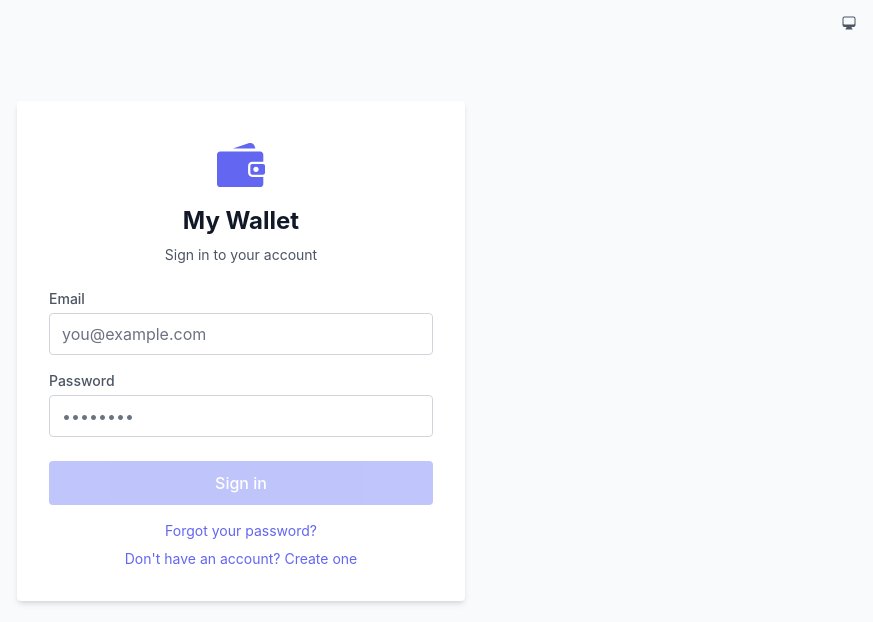
Login › disables button and shows a spinner while submitting
The width and height of the screenshot is (873, 622).
Type "test@example.com" into the field labelled "Email" at x=241, y=334, box [49, 313, 433, 355]
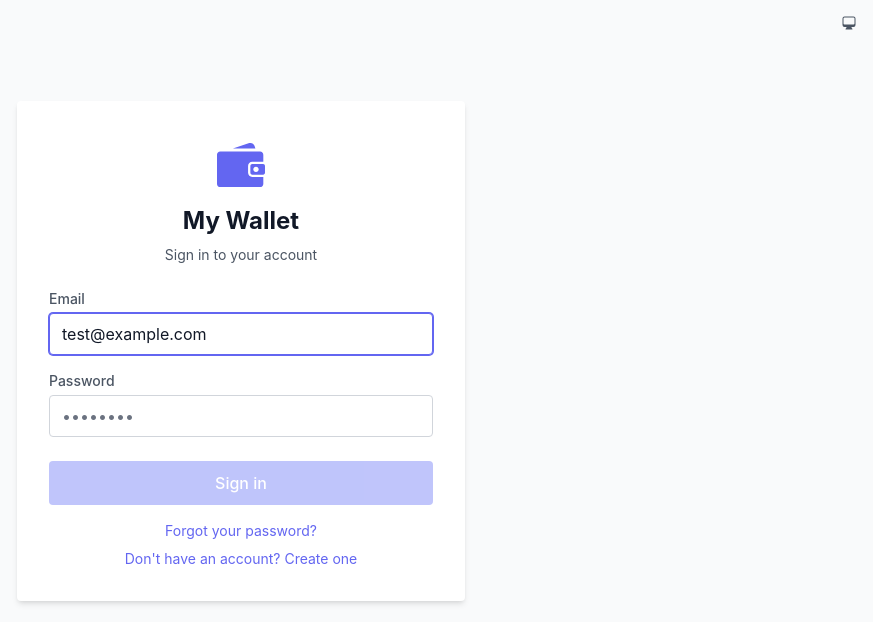
Type "password" into the password field labelled "Password" at x=241, y=416, box [49, 395, 433, 437]
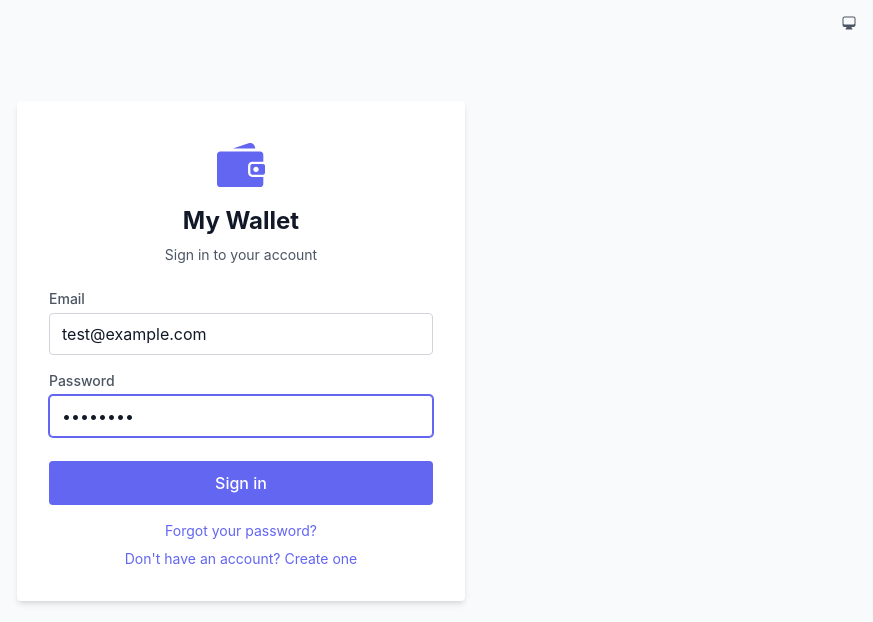
Click the button "Sign in" at x=241, y=483, box [49, 461, 433, 505]
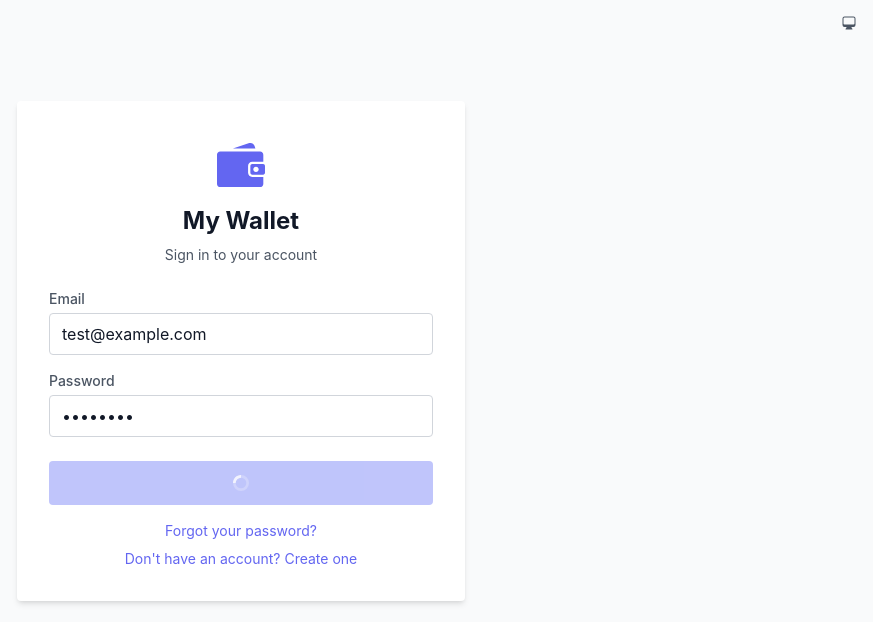
Result: the button named "Sign in" is disabled at [49, 461, 433, 505]
